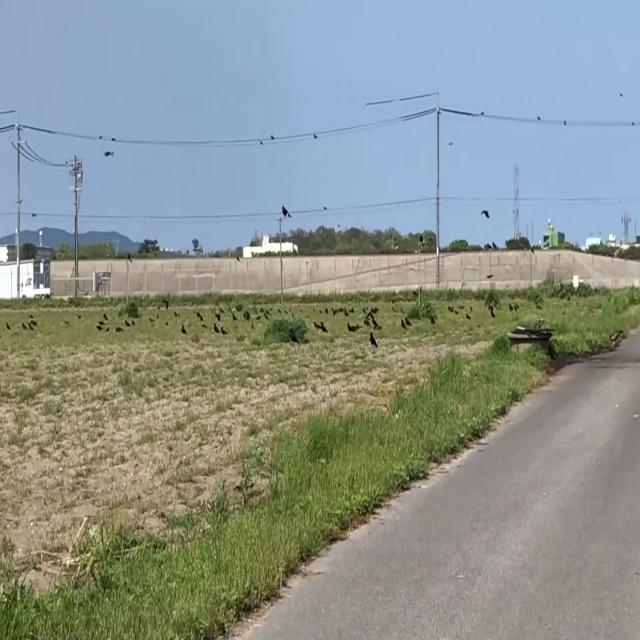bird: (281, 200, 290, 223), (104, 141, 113, 162), (481, 203, 490, 222), (370, 329, 377, 351), (316, 316, 323, 332), (430, 310, 435, 327), (315, 316, 320, 332), (182, 319, 186, 338), (292, 326, 296, 344), (401, 316, 405, 332), (320, 317, 324, 333), (391, 293, 395, 307), (270, 130, 274, 144), (510, 299, 513, 313)
